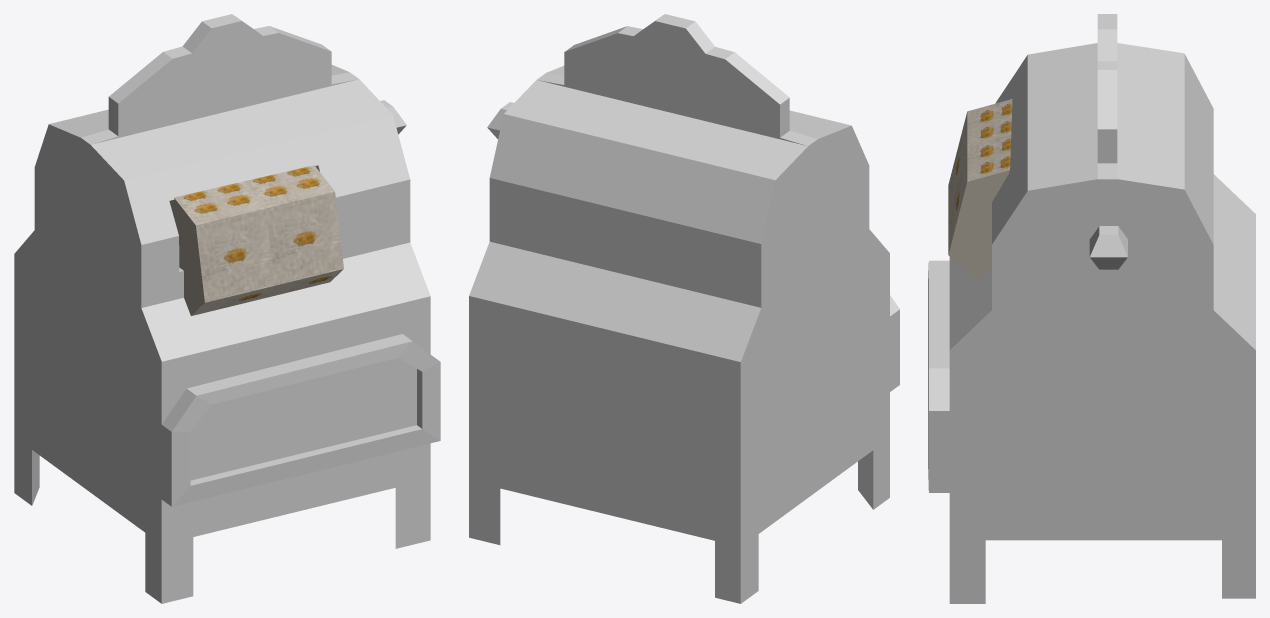
Rendered from SlotMachine.glb.
The picture shows the model from 3 angles, left to right: view 1: azimuth 30°, elevation 25°; view 2: azimuth 150°, elevation 25°; view 3: azimuth 270°, elevation 25°; orthographic projection. The views are drawn at different scales.
Parts seen in each view (by area): view 1: Body, Wheel1, Wheel2; view 2: Body; view 3: Body, Wheel2, Arm, Wheel1.
Boxes of the visible parts, box(x1,y1,x2,y2) form: Body: box(14, 14, 440, 603); Wheel1: box(169, 181, 274, 315); Wheel2: box(244, 165, 343, 298); Body: box(469, 14, 899, 603); Body: box(928, 14, 1255, 603); Wheel2: box(948, 134, 1011, 279); Arm: box(1089, 226, 1127, 389); Wheel1: box(948, 99, 1012, 219).
Size of the model in its own units: 2.04 by 3.09 by 1.78.
1 material, 1 textured.
